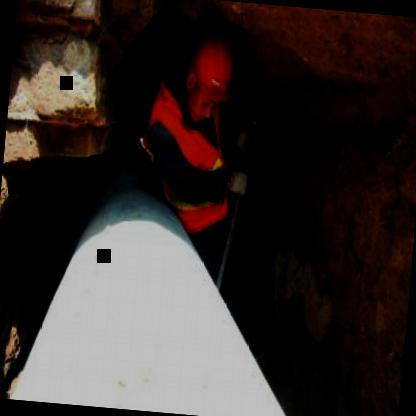helmet: (181, 28, 243, 130)
